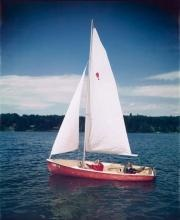fanchuan: (46, 22, 161, 184)
